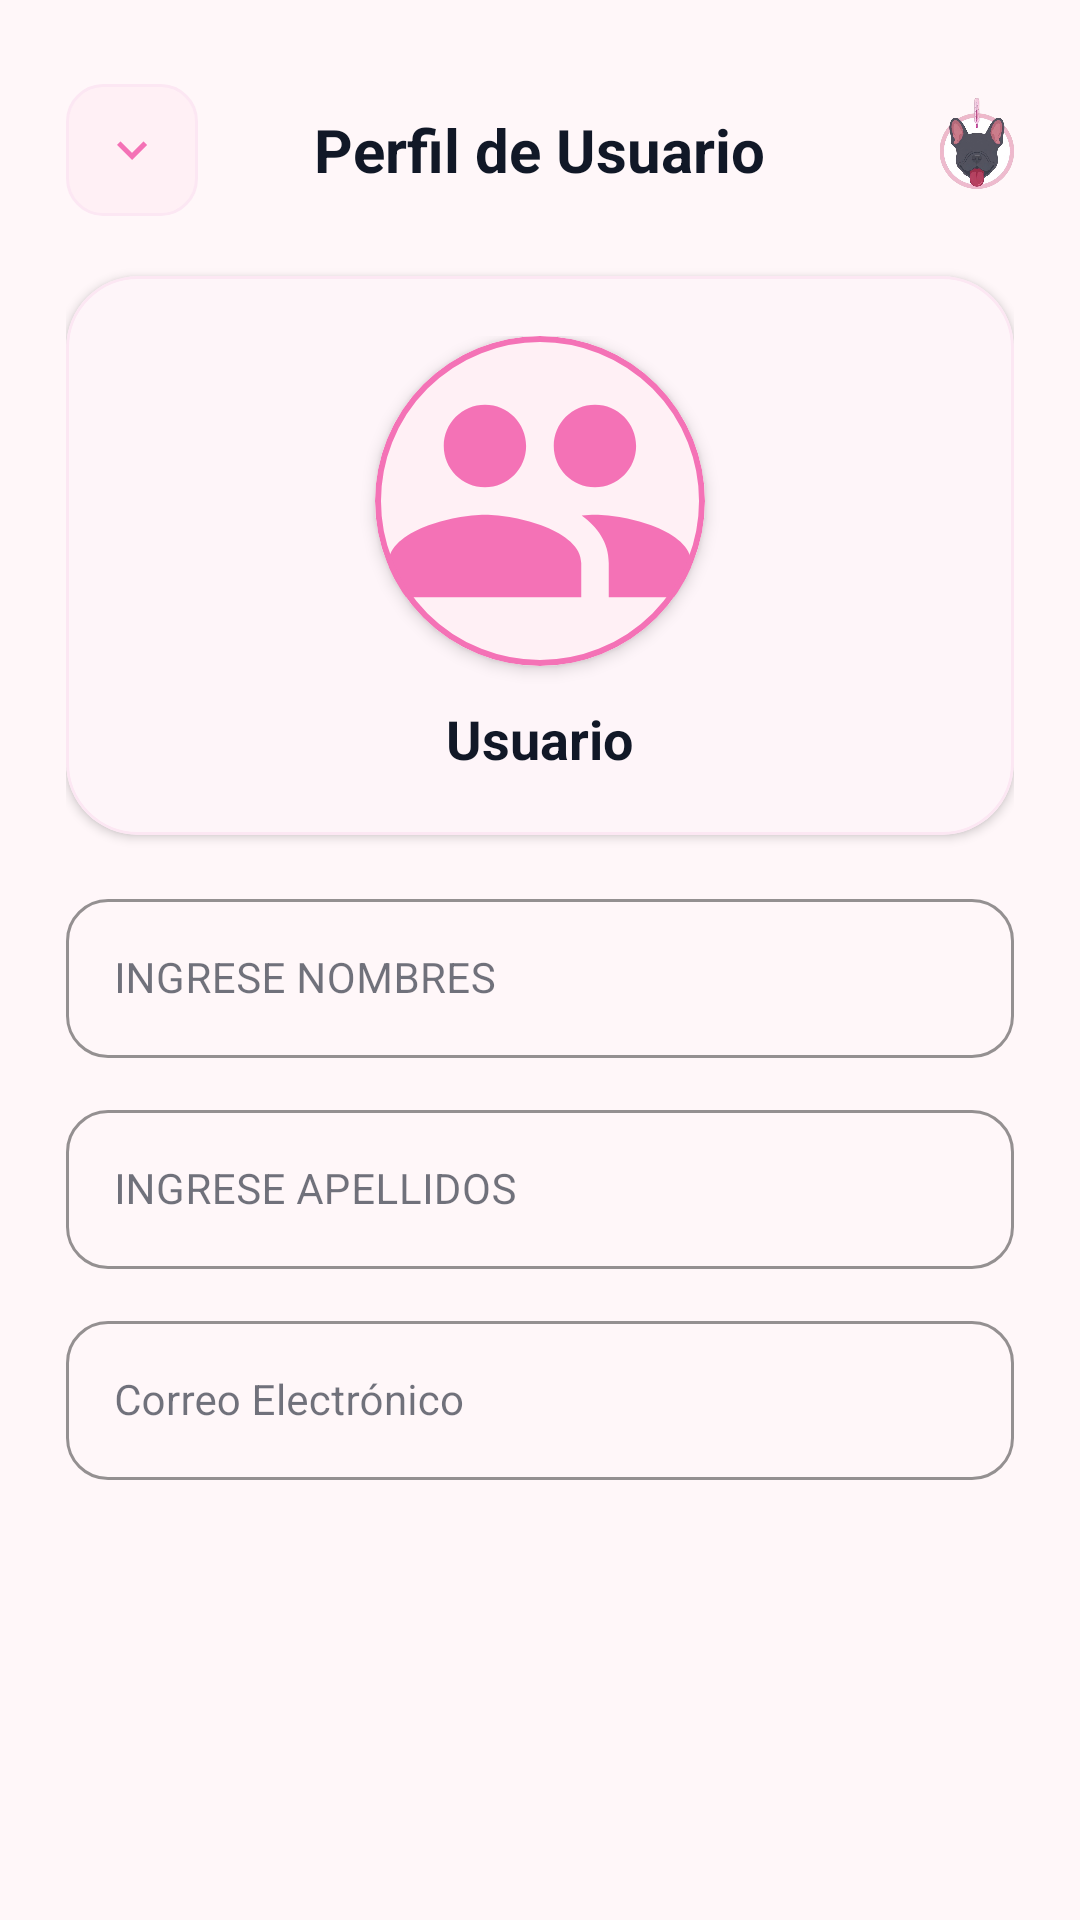

Locate icon controls on the screen. Image size 1080x1920, boxes as (x1, y1, x2, y2).
expand more: (117, 141, 147, 160)
